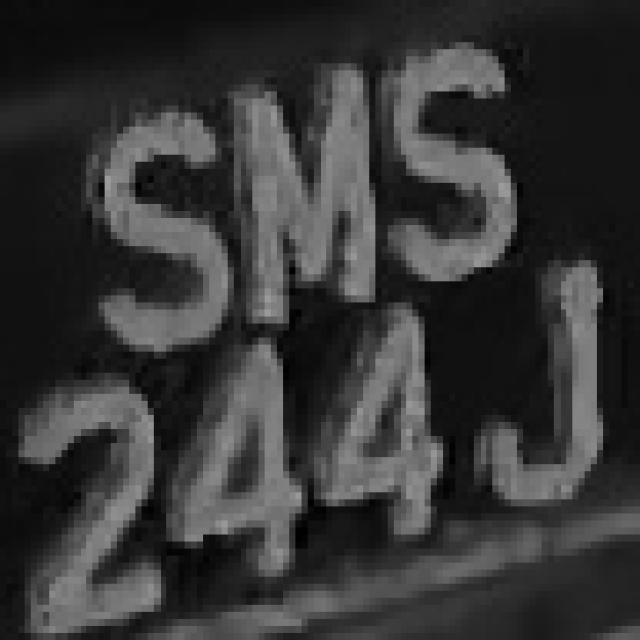2: (12, 359, 166, 626)
4: (314, 302, 480, 548), (160, 352, 320, 598)
J: (474, 274, 621, 528)
M: (203, 84, 388, 330)
S: (74, 91, 252, 359), (370, 14, 536, 288)
